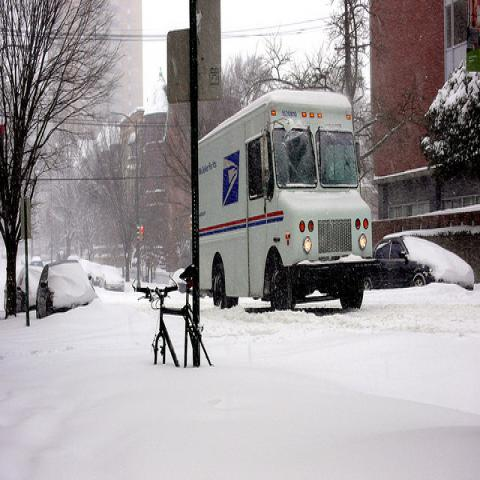car: (365, 234, 474, 290), (33, 258, 100, 320), (16, 267, 42, 312), (92, 263, 124, 291), (172, 269, 186, 294), (86, 262, 96, 280), (30, 256, 44, 267), (132, 248, 138, 267)
truck: (195, 90, 376, 320)
